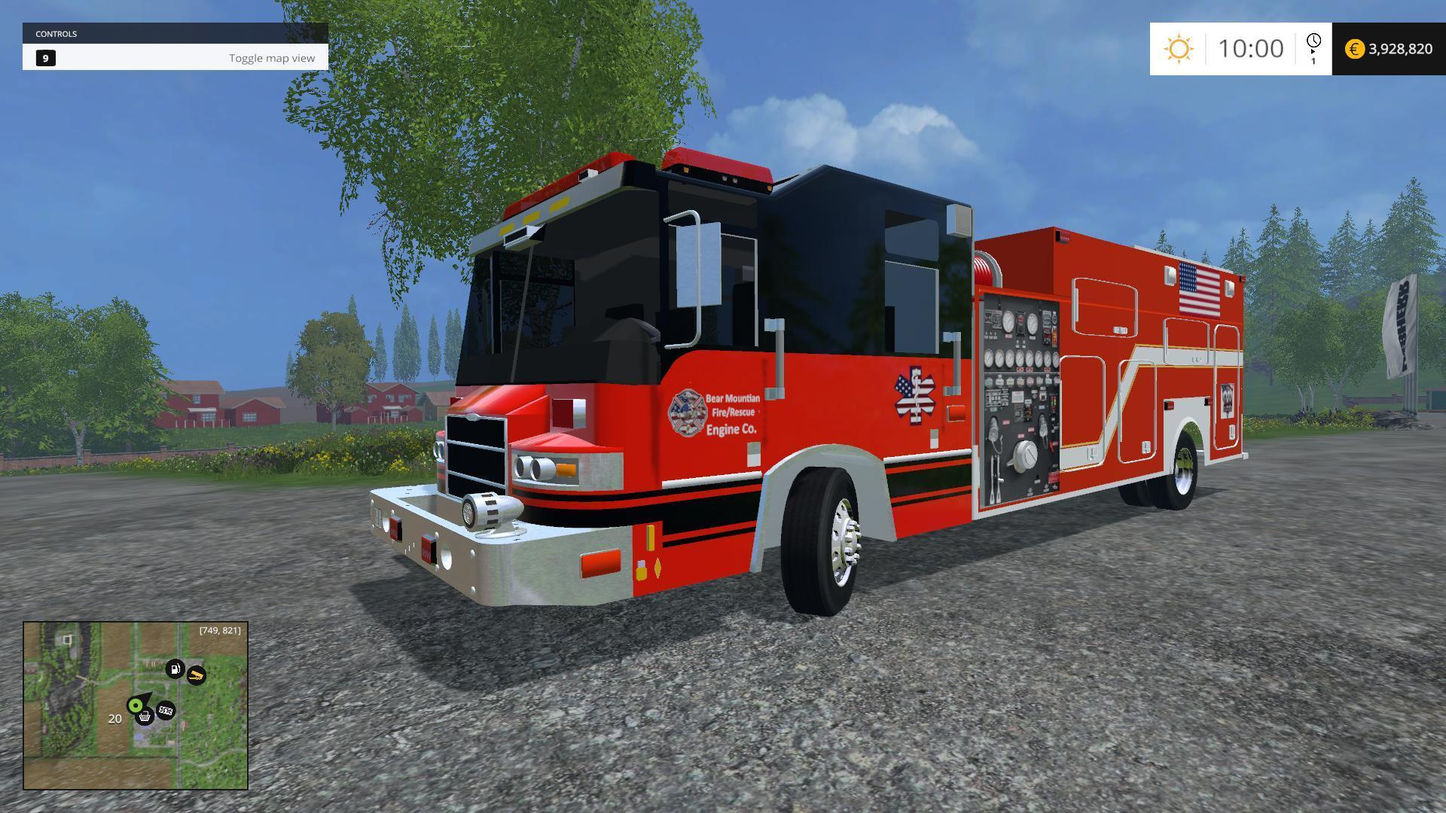Fire-engine: (367, 144, 1249, 617)
